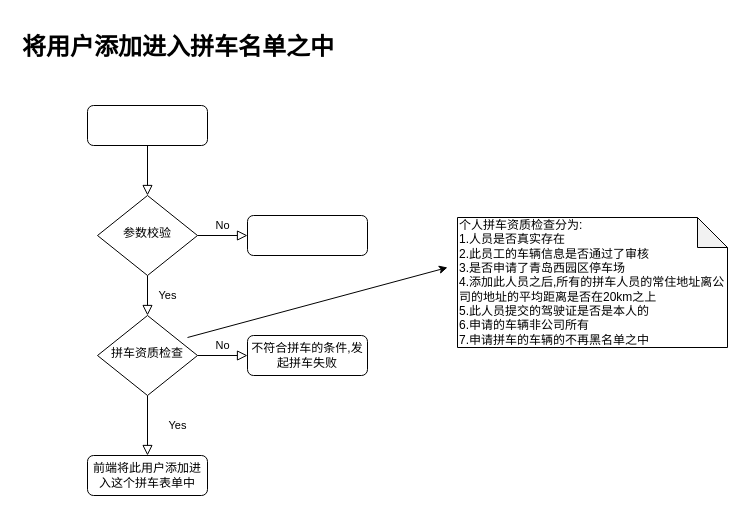
This 745x513 diagram has some shape labels left out. The shapes that lost their labels are listed below. From the top down, each one's centre as x and y in pixels, then its label:
At [147,125]: "获取参与拼车的用户工号".
At [307,235]: "参数不合法".
